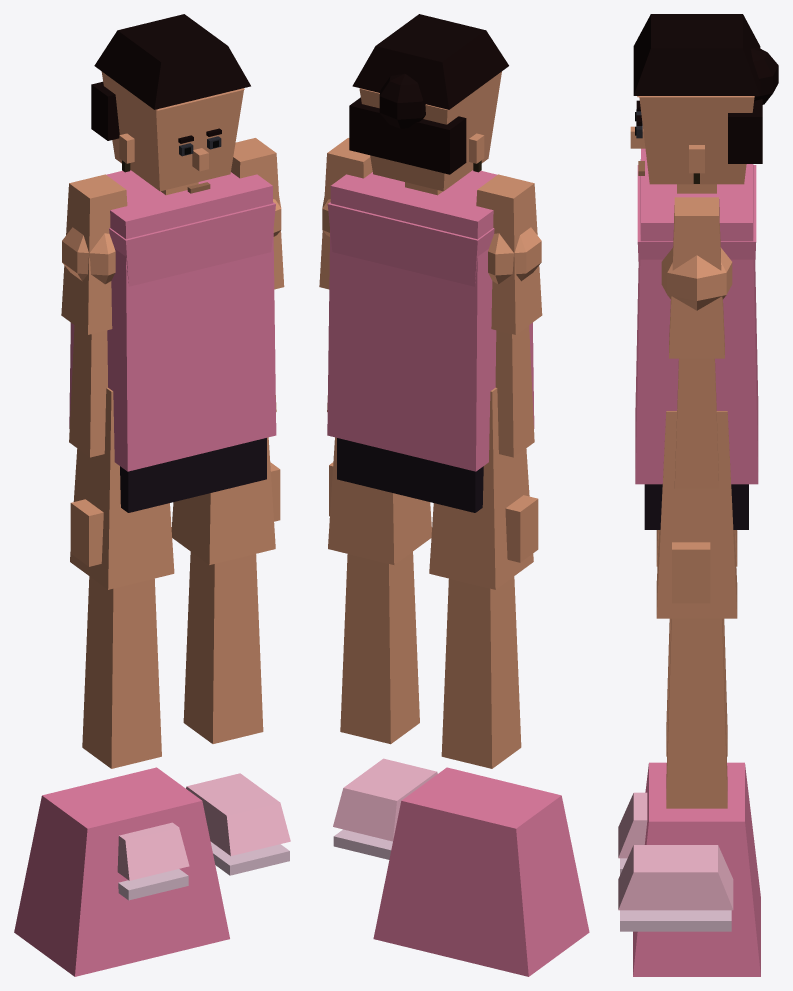
File: npc_woman_ballet.glb
3 renders of one model, left to right at view 1: azimuth 30°, elevation 25°; view 2: azimuth 150°, elevation 25°; view 3: azimuth 270°, elevation 25°, orthographic. The views are drawn at different scales.
Parts seen in each view (by area): view 1: torso, footR, head, lowerLegL, lowerLegR, upperLegR, upperArmR, footL, upperLegL, foreArmR, hips, upperArmL; view 2: torso, footR, head, lowerLegL, lowerLegR, upperLegR, upperArmR, upperLegL, foreArmR, hips, footL, upperArmL; view 3: torso, head, footR, lowerLegL, upperLegL, footL, upperArmL, foreArmL, hips, lowerLegR.
Part boxes in pixels (box(x1,y1,x2,y2)): torso: box(69, 170, 276, 471); footR: box(14, 767, 229, 976); head: box(91, 14, 250, 193); lowerLegL: box(183, 552, 263, 743); lowerLegR: box(82, 576, 161, 768); upperLegR: box(70, 387, 174, 589); upperArmR: box(61, 174, 127, 334); footL: box(186, 773, 290, 875); upperLegL: box(171, 437, 275, 564); foreArmR: box(69, 325, 107, 566); hips: box(120, 438, 266, 512); upperArmL: box(231, 138, 284, 289); torso: box(327, 170, 534, 471); footR: box(373, 767, 589, 976); head: box(349, 14, 508, 191); lowerLegL: box(340, 551, 419, 744); lowerLegR: box(441, 576, 521, 768); upperLegR: box(429, 387, 533, 589); upperArmR: box(476, 174, 542, 334); upperLegL: box(328, 437, 431, 564); foreArmR: box(495, 325, 538, 562); hips: box(337, 438, 483, 512); footL: box(333, 758, 437, 859); upperArmL: box(319, 138, 372, 289); torso: box(635, 148, 758, 484); head: box(630, 14, 778, 184); footR: box(618, 762, 760, 976); lowerLegL: box(666, 618, 727, 808); upperLegL: box(656, 411, 737, 618); footL: box(618, 845, 733, 931); upperArmL: box(661, 197, 732, 358); foreArmL: box(672, 358, 718, 603); hips: box(644, 484, 748, 529); lowerLegR: box(666, 618, 727, 756).
Size of the model in its own units: 0.5348 by 1.93 by 0.3011.
